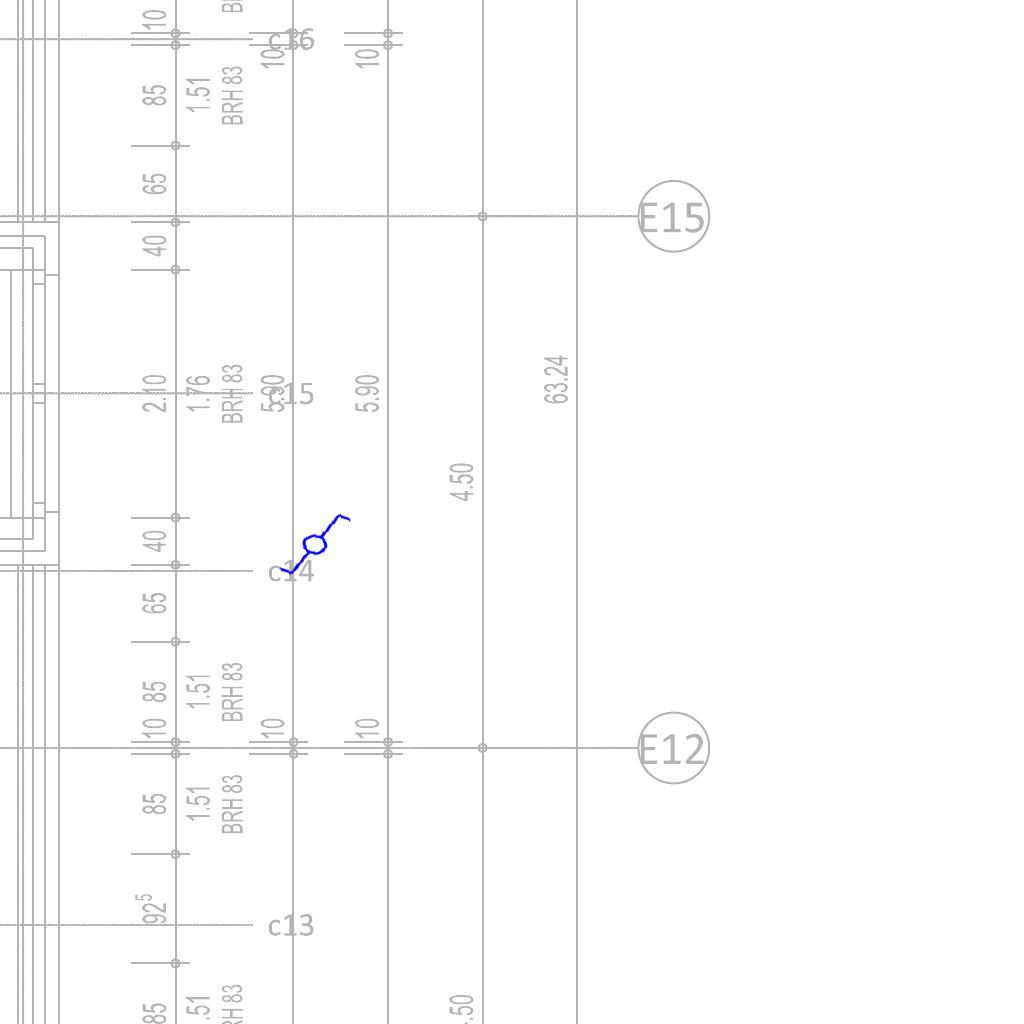Wechselschalter: (267, 502, 355, 584)
